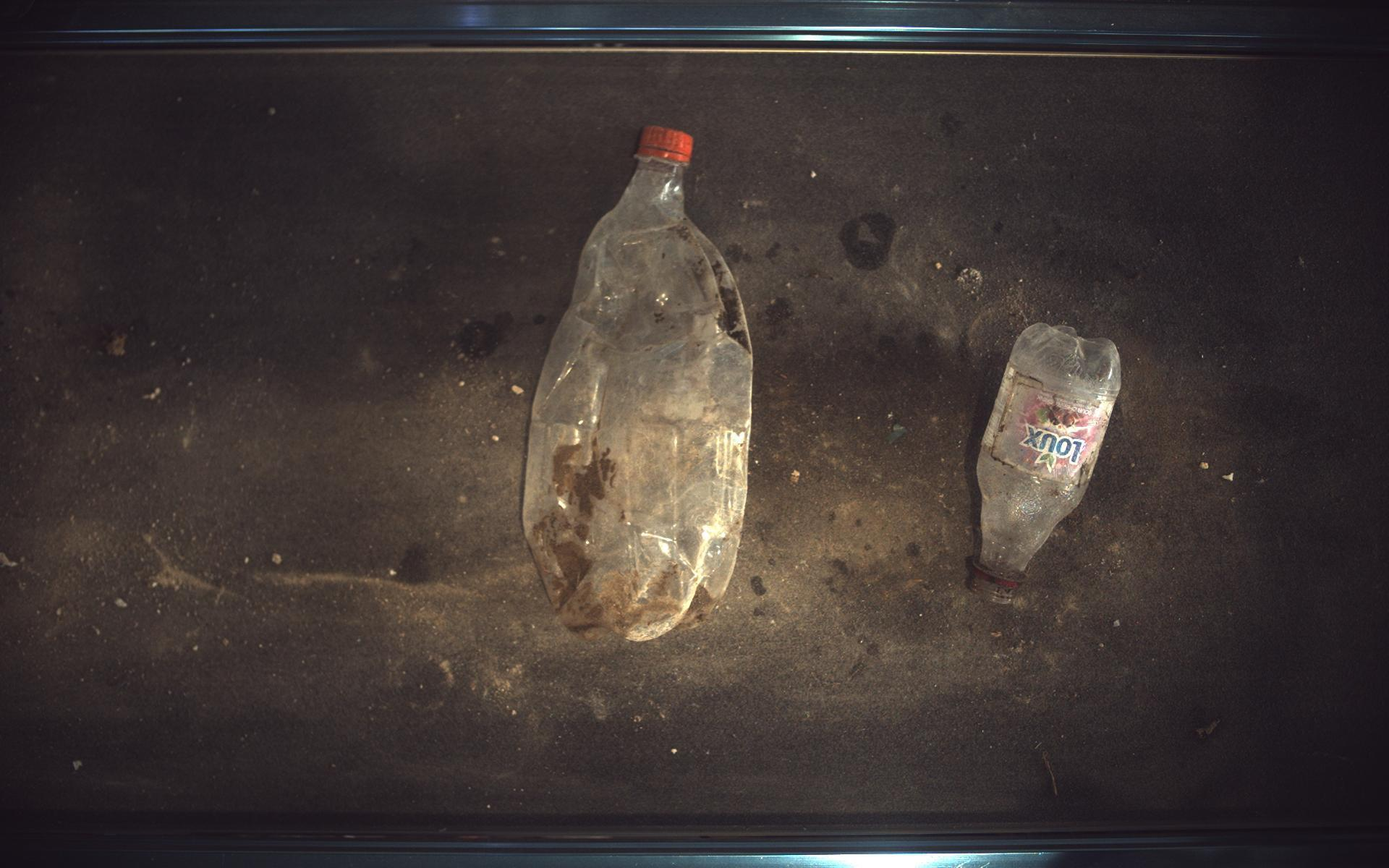general_w: (523, 125, 753, 642), (970, 323, 1123, 605)
